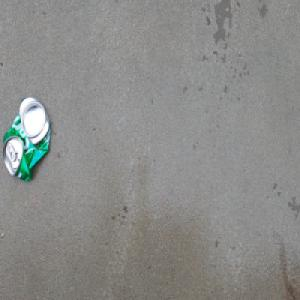SodaCan: (1, 95, 51, 185)
